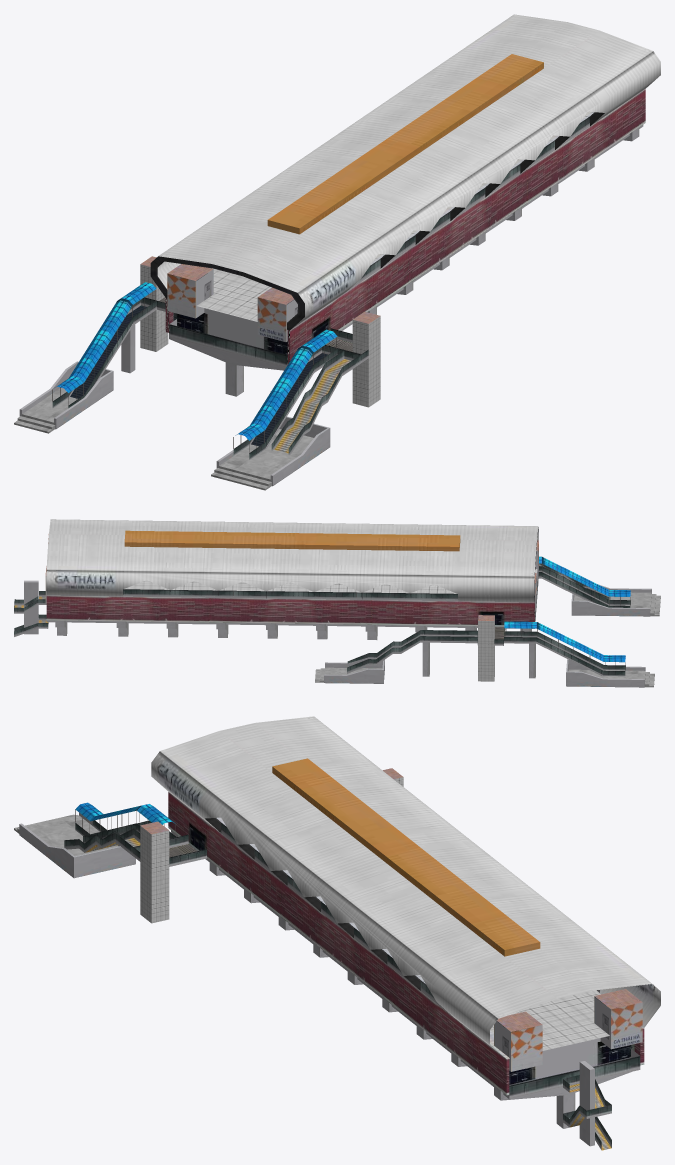
The picture shows the model from 3 angles, top to bottom: view 1: azimuth 30°, elevation 25°; view 2: azimuth 150°, elevation 25°; view 3: azimuth 270°, elevation 25°; orthographic projection. The views are drawn at different scales.
Visible parts, largest first — view 1: HN1256___La_Thanh_Metro_Station.001; view 2: HN1256___La_Thanh_Metro_Station.001; view 3: HN1256___La_Thanh_Metro_Station.001.
Part boxes in pixels (x1=…): HN1256___La_Thanh_Metro_Station.001: x1=14, y1=14, x2=660, y2=490; HN1256___La_Thanh_Metro_Station.001: x1=14, y1=519, x2=660, y2=687; HN1256___La_Thanh_Metro_Station.001: x1=14, y1=716, x2=660, y2=1150.
Size of the model in its own units: 128 by 22.19 by 90.09.
1 material, 1 textured.
